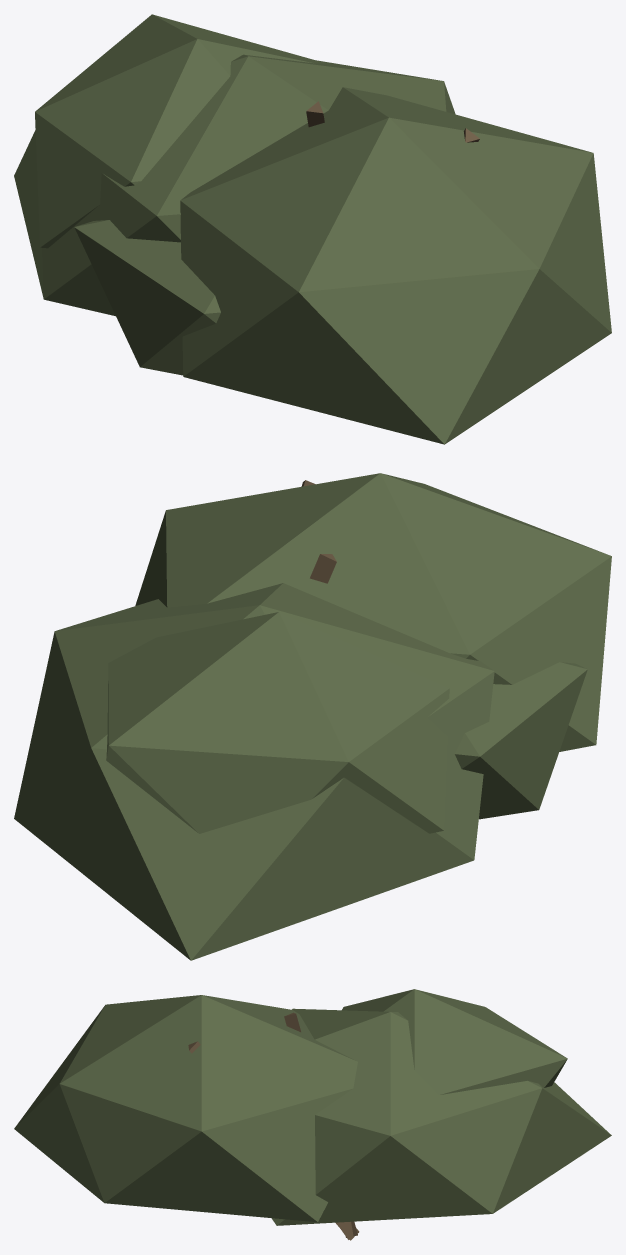
File: scrub_0.glb
3 views of the same model, one above another, from view 1: azimuth 30°, elevation 25°; view 2: azimuth 150°, elevation 25°; view 3: azimuth 270°, elevation 25° (orthographic). The views are drawn at different scales.
Parts seen in each view (by area): view 1: scrub_0; view 2: scrub_0; view 3: scrub_0.
Part boxes in pixels (bbox=[...]): scrub_0: bbox=[14, 14, 611, 444]; scrub_0: bbox=[14, 473, 611, 960]; scrub_0: bbox=[14, 989, 611, 1240].
Bounding box in the file's own units: 1.17 × 0.7933 × 1.95.
